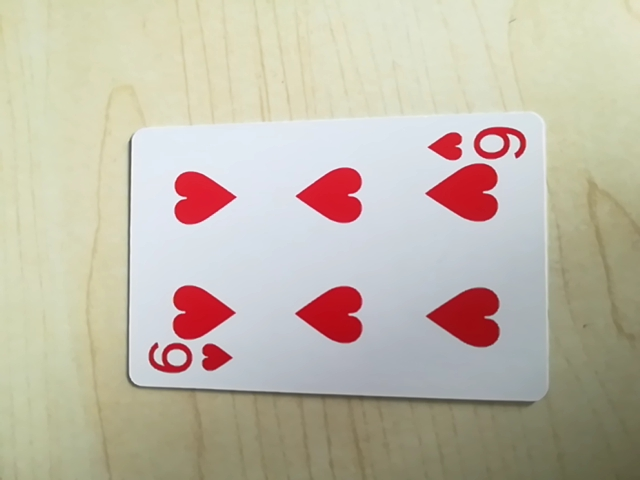hx 6: (422, 121, 529, 166), (144, 336, 236, 385)
